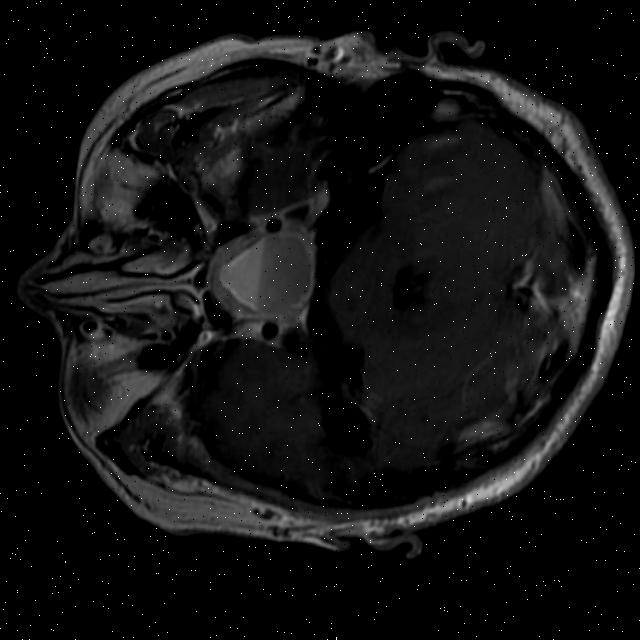Pituitary: (214, 224, 315, 325)
